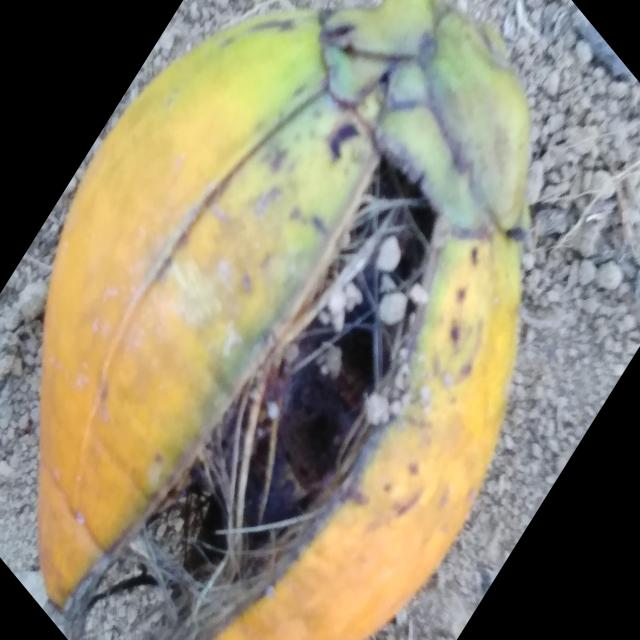damaged: (38, 0, 530, 640)
